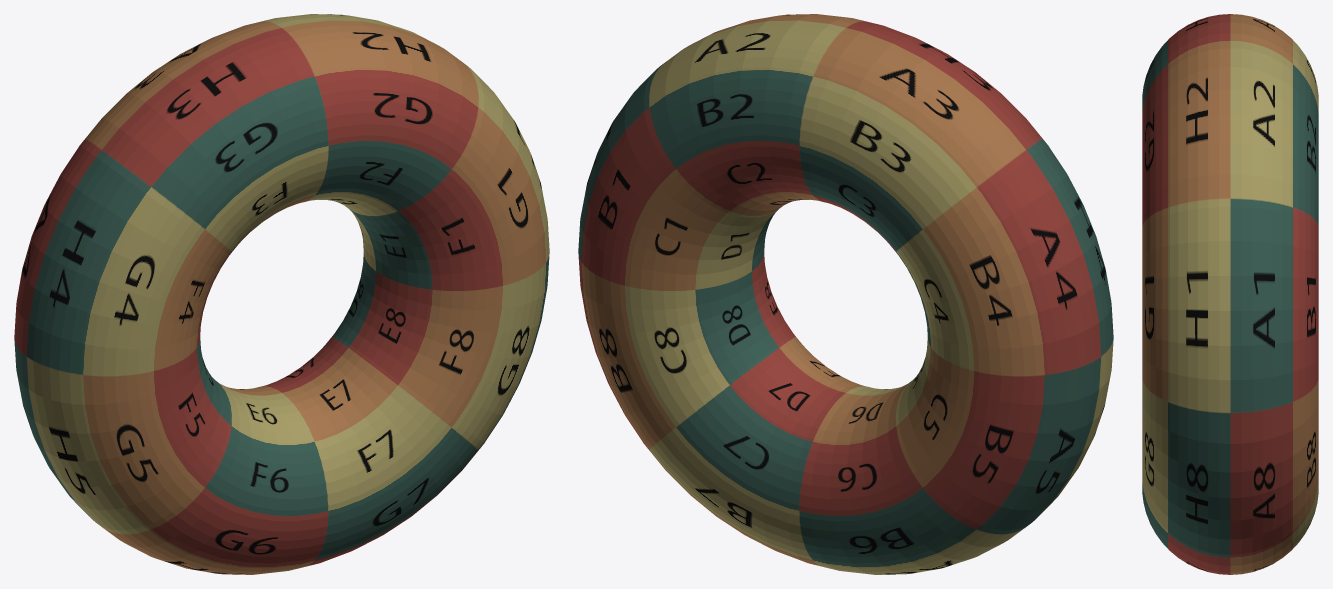
Rendered from texture_torus_R8_r19.glb.
The picture shows the model from 3 angles, left to right: view 1: azimuth 30°, elevation 25°; view 2: azimuth 150°, elevation 25°; view 3: azimuth 270°, elevation 25°; orthographic projection. The views are drawn at different scales.
Visible parts, largest first — view 1: world; view 2: world; view 3: world.
Part boxes in pixels (x1,y1,x2,y2): world: (14,14,549,574); world: (578,14,1113,574); world: (1142,14,1318,574).
Bounding box in the file's own units: 22.4 × 22.36 × 7.05.
1 material, 1 textured.
